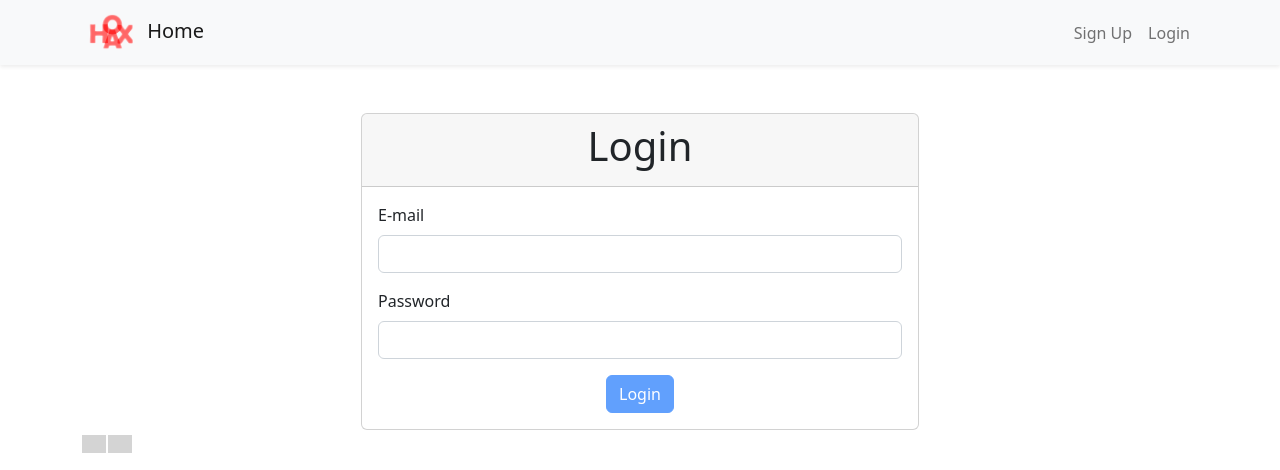
Test: Routing › displays home page when clicking brand logo
The width and height of the screenshot is (1280, 470).
Click the picture with alt text "Home Logo" at (112, 33), box [82, 13, 142, 52]
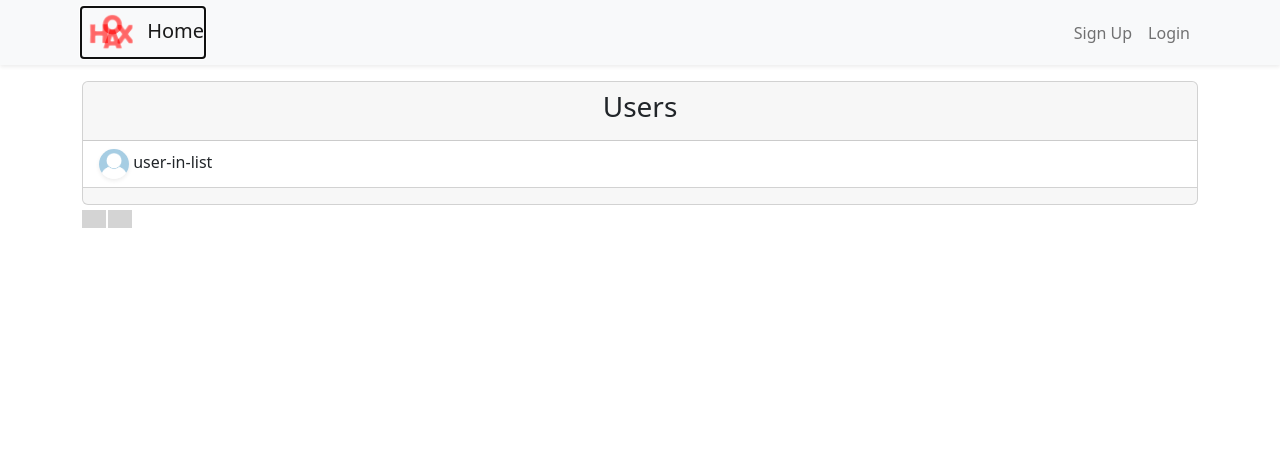
Expected: the element with test id "home-page" is shown, [82, 81, 1198, 205]
